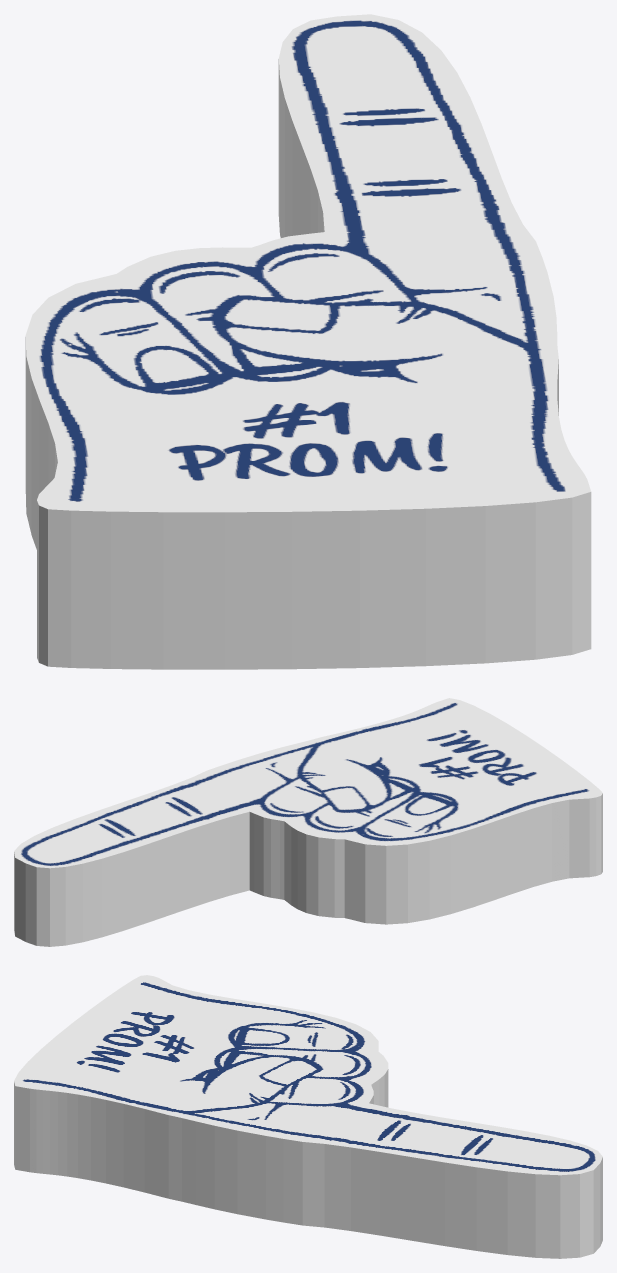
The picture shows the model from 3 angles, top to bottom: view 1: azimuth 30°, elevation 25°; view 2: azimuth 150°, elevation 25°; view 3: azimuth 270°, elevation 25°; orthographic projection. The views are drawn at different scales.
Parts seen in each view (by area): view 1: BezierCurve; view 2: BezierCurve; view 3: BezierCurve.
Boxes of the visible parts, bbox=[...] form: BezierCurve: bbox=[25, 14, 591, 669]; BezierCurve: bbox=[14, 698, 602, 946]; BezierCurve: bbox=[14, 975, 602, 1258].
Bounding box in the file's own units: 3.83 × 0.7455 × 4.76.
Materials: 1 (1 with a texture image).
